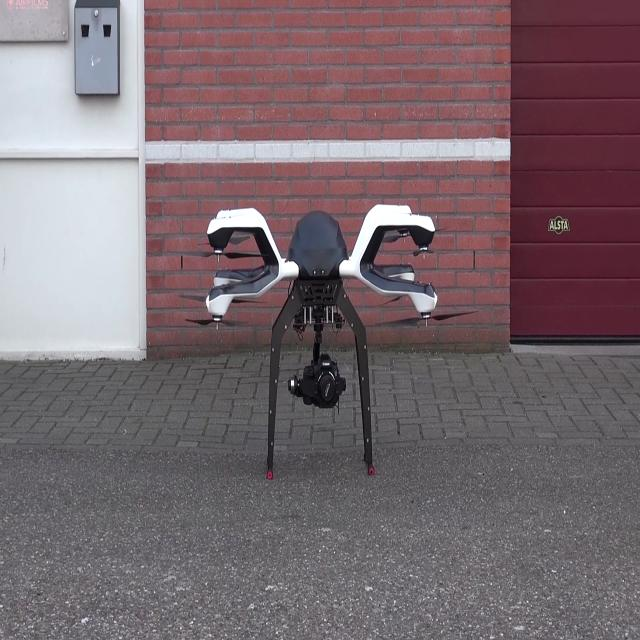drone: (197, 176, 454, 478)
